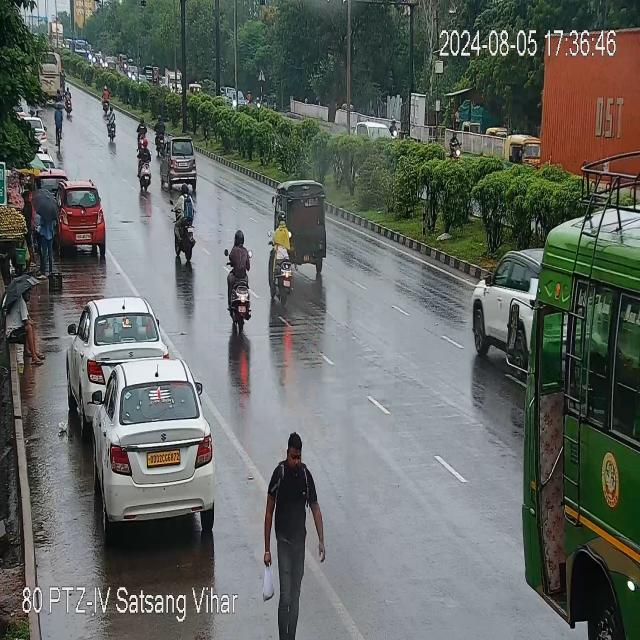2-wheelers: (220, 230, 252, 334), (171, 189, 199, 261), (135, 146, 156, 193), (98, 85, 122, 118), (54, 102, 68, 154), (154, 116, 174, 150), (448, 131, 465, 164)
auto: (273, 185, 330, 273), (506, 131, 538, 181)
bus: (523, 278, 640, 637), (32, 50, 65, 97)
car: (76, 361, 219, 529), (70, 297, 166, 398), (468, 253, 545, 365), (58, 185, 106, 247), (162, 141, 208, 192), (19, 114, 49, 155), (357, 122, 403, 143)
pedestrian: (270, 428, 310, 573), (5, 287, 46, 360), (32, 191, 57, 275)
truck: (538, 23, 640, 185)
